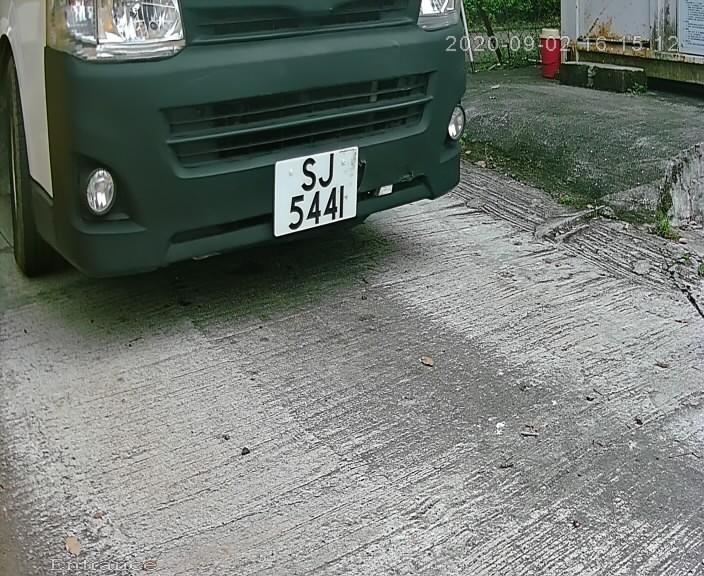Car: (13, 11, 525, 337)
License Plate: (265, 142, 375, 237)
